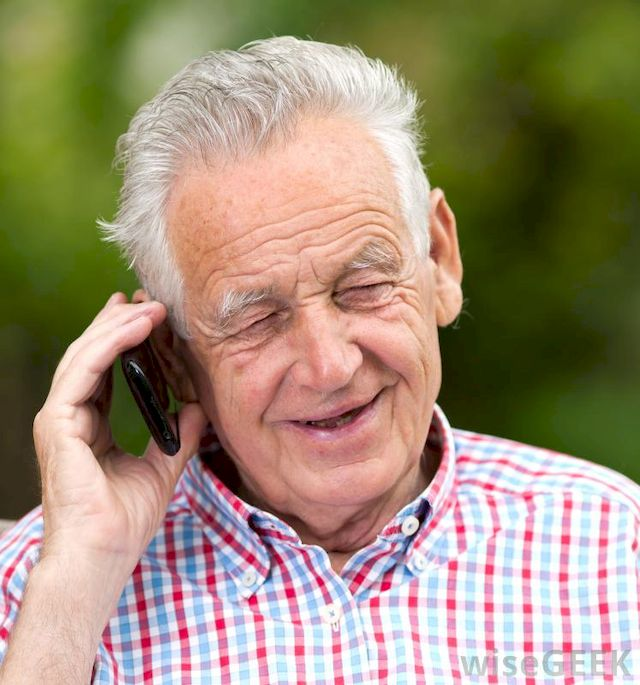phone: (101, 304, 211, 476)
talk: (34, 224, 442, 541)
